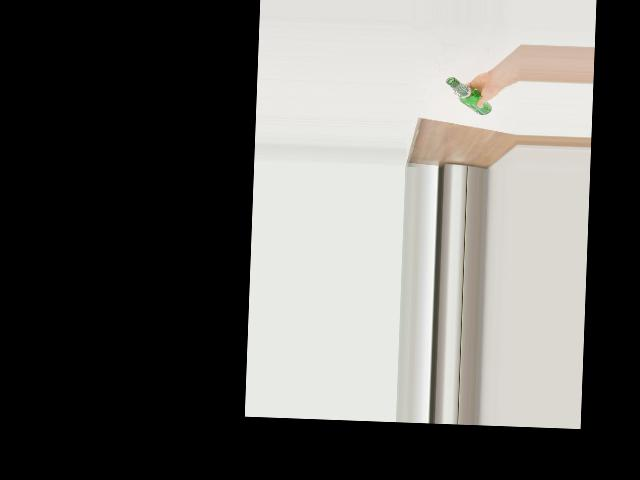beer: (444, 75, 492, 114)
